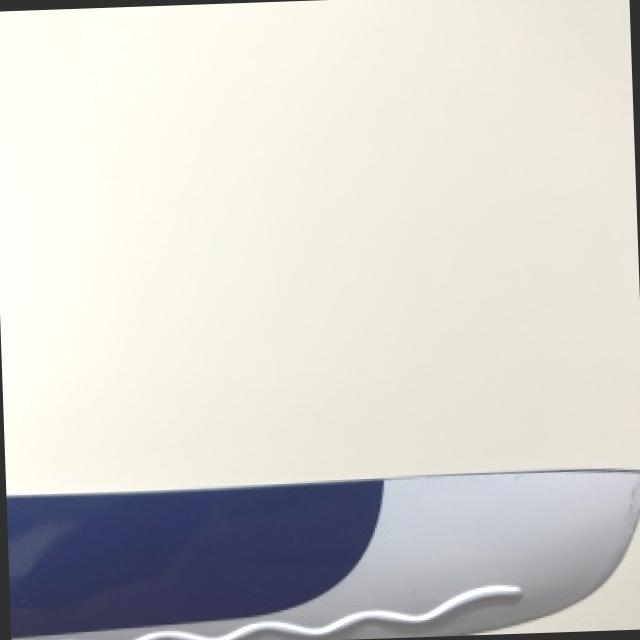healthy: (8, 469, 640, 640)
